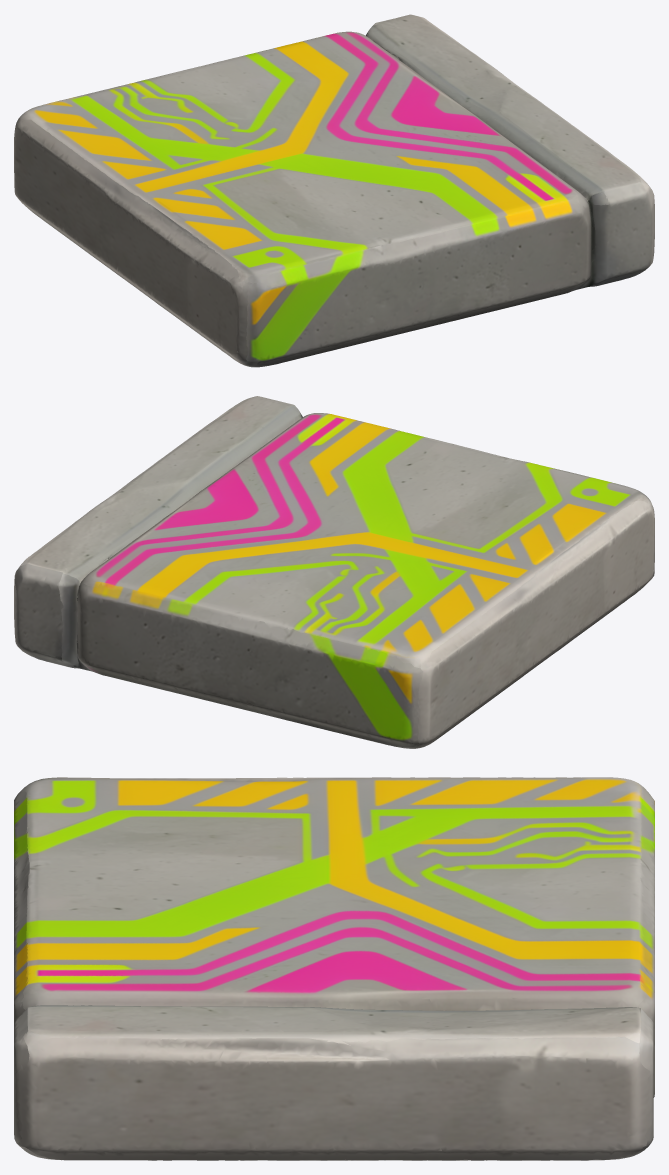
The model's file is u_ter_sidewalk.glb.
The picture shows the model from 3 angles, top to bottom: view 1: azimuth 30°, elevation 25°; view 2: azimuth 150°, elevation 25°; view 3: azimuth 270°, elevation 25°; orthographic projection. The views are drawn at different scales.
Visible parts, largest first — view 1: geometry_0; view 2: geometry_0; view 3: geometry_0.
Boxes of the visible parts, x1,y1,x2,y2 form: geometry_0: (14,14,654,367); geometry_0: (14,396,654,748); geometry_0: (14,777,654,1160).
Bounding box in the file's own units: 0.3 × 0.0667 × 0.3.
1 material, 1 textured.
